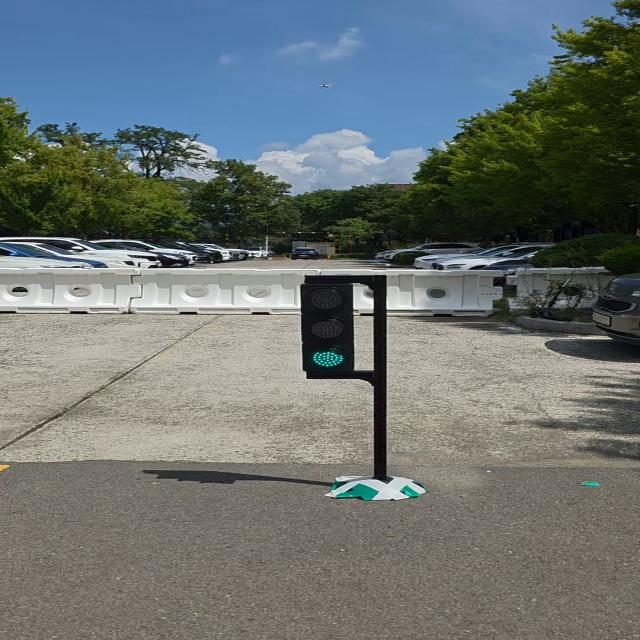green: (299, 276, 356, 377)
